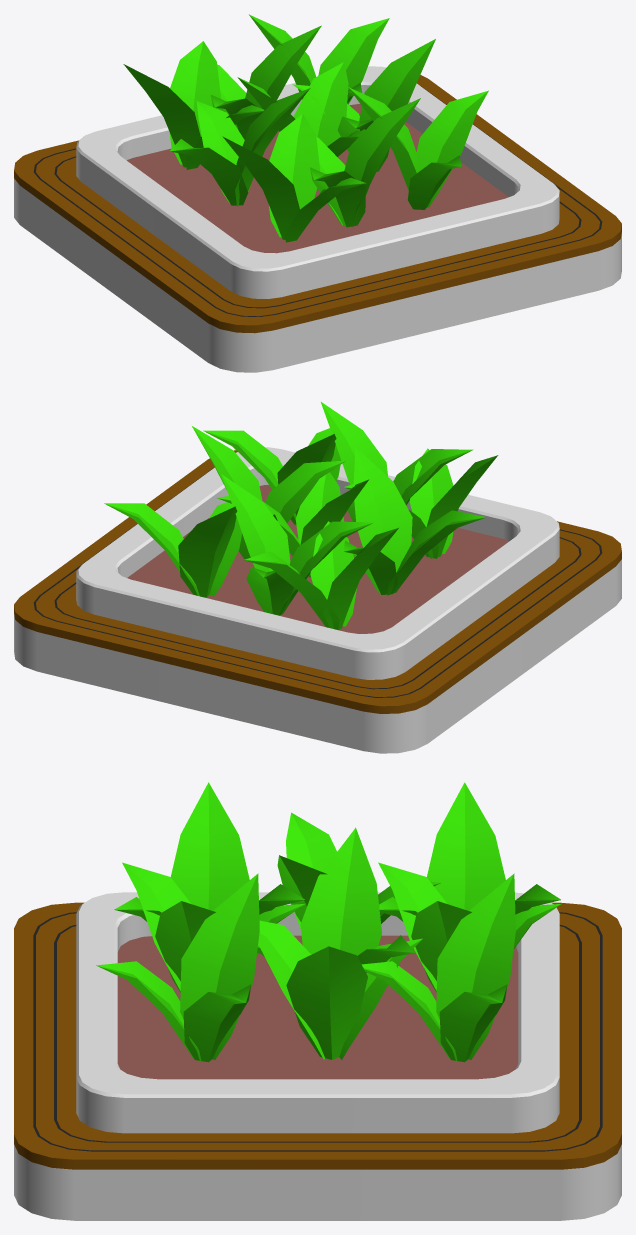
File: flowerBed.fbx
3 views of the same model, one above another, from view 1: azimuth 30°, elevation 25°; view 2: azimuth 150°, elevation 25°; view 3: azimuth 270°, elevation 25° (orthographic). The views are drawn at different scales.
Parts seen in each view (by area): view 1: flowerBed; view 2: flowerBed; view 3: flowerBed.
Boxes of the visible parts, box(x1,y1,x2,y2) form: flowerBed: box(14, 14, 621, 372); flowerBed: box(14, 402, 621, 753); flowerBed: box(14, 782, 621, 1220).
Size of the model in its own units: 532 by 215 by 532.
